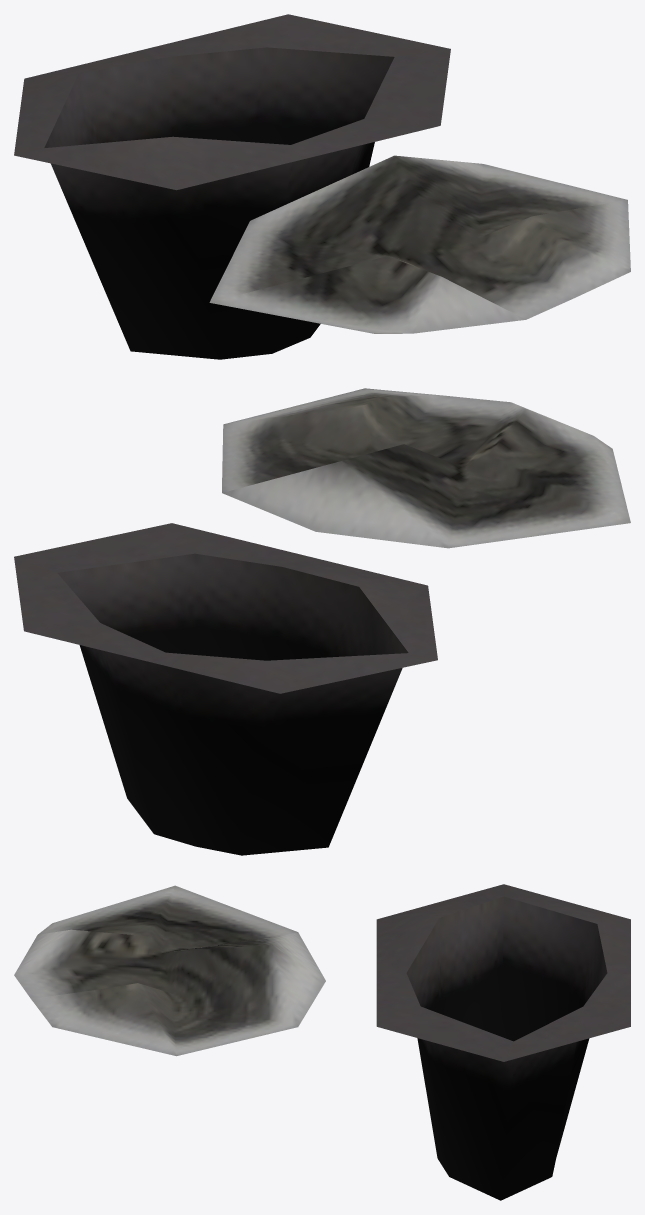
File: YamaJest.fbx
The picture shows the model from 3 angles, top to bottom: view 1: azimuth 30°, elevation 25°; view 2: azimuth 150°, elevation 25°; view 3: azimuth 270°, elevation 25°; orthographic projection. The views are drawn at different scales.
Parts seen in each view (by area): view 1: YamaWoobsheObrywTipo, Dirt; view 2: YamaWoobsheObrywTipo, Dirt; view 3: YamaWoobsheObrywTipo, Dirt.
Part boxes in pixels (bbox=[...]): YamaWoobsheObrywTipo: bbox=[14, 14, 450, 359]; Dirt: bbox=[209, 155, 630, 333]; YamaWoobsheObrywTipo: bbox=[14, 523, 437, 855]; Dirt: bbox=[222, 388, 630, 548]; YamaWoobsheObrywTipo: bbox=[376, 884, 630, 1200]; Dirt: bbox=[14, 885, 325, 1056].
Bounding box in the file's own units: 5.47 × 3.17 × 7.99.
